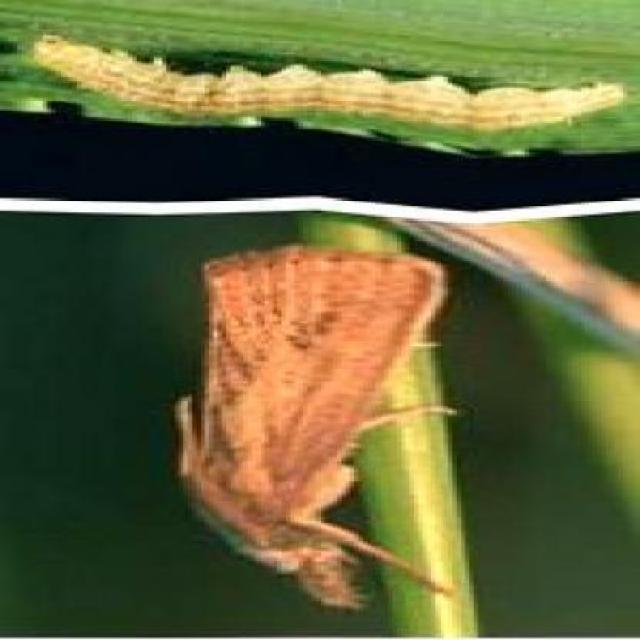stem-borer: (162, 243, 460, 611)
